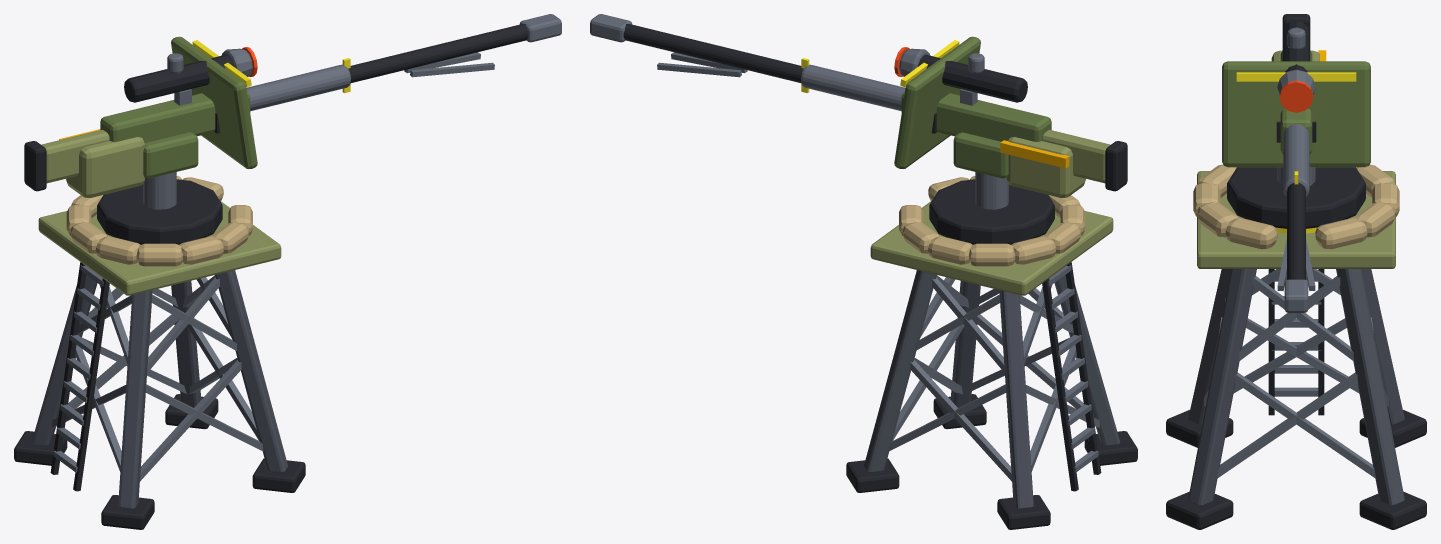
The model's file is torreta_francotirador.glb.
3 views of the same model, side by side, from view 1: azimuth 30°, elevation 25°; view 2: azimuth 150°, elevation 25°; view 3: azimuth 270°, elevation 25° (orthographic). The views are drawn at different scales.
Parts seen in each view (by area): view 1: Base, Barrel, Pivot; view 2: Base, Barrel, Pivot; view 3: Base, Pivot, Barrel.
Part boxes in pixels (box(x1,y1,x2,y2)): Base: box(14, 176, 305, 529); Barrel: box(24, 14, 561, 191); Pivot: box(59, 36, 257, 244); Base: box(846, 176, 1137, 529); Barrel: box(590, 14, 1127, 191); Pivot: box(894, 36, 1085, 244); Base: box(1166, 164, 1426, 529); Pivot: box(1222, 50, 1370, 228); Barrel: box(1277, 14, 1315, 312).
Bounding box in the file's own units: 5.44 × 4.03 × 2.1.
Materials: 1 (1 with a texture image).
